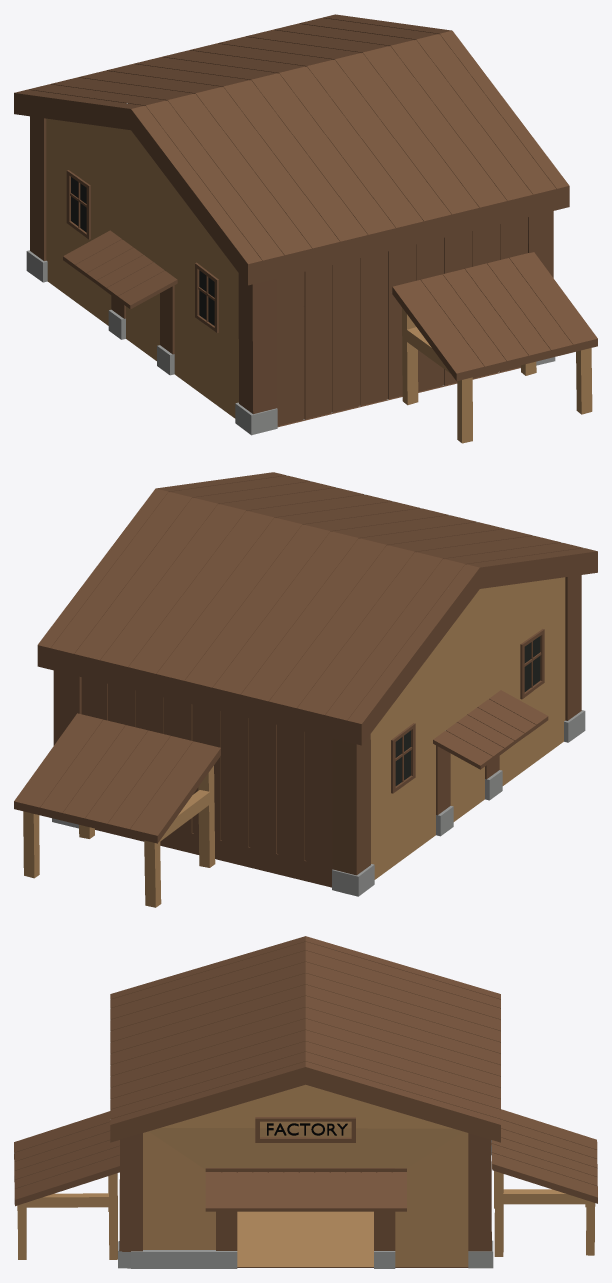
The model's file is factoryy.fbx.
3 views of the same model, one above another, from view 1: azimuth 30°, elevation 25°; view 2: azimuth 150°, elevation 25°; view 3: azimuth 270°, elevation 25° (orthographic). The views are drawn at different scales.
Visible parts, largest first — view 1: Cube.001; view 2: Cube.001; view 3: Cube.001, Cube.002, Cube, Text.
Boxes of the visible parts, box(x1,y1,x2,y2) form: Cube.001: box(14, 14, 597, 443); Cube.001: box(14, 472, 597, 907); Cube.001: box(14, 936, 597, 1268); Cube.002: box(122, 1211, 468, 1267); Cube: box(255, 1117, 355, 1142); Text: box(267, 1123, 347, 1135).
Size of the model in its own units: 2820 by 1714 by 4372.
